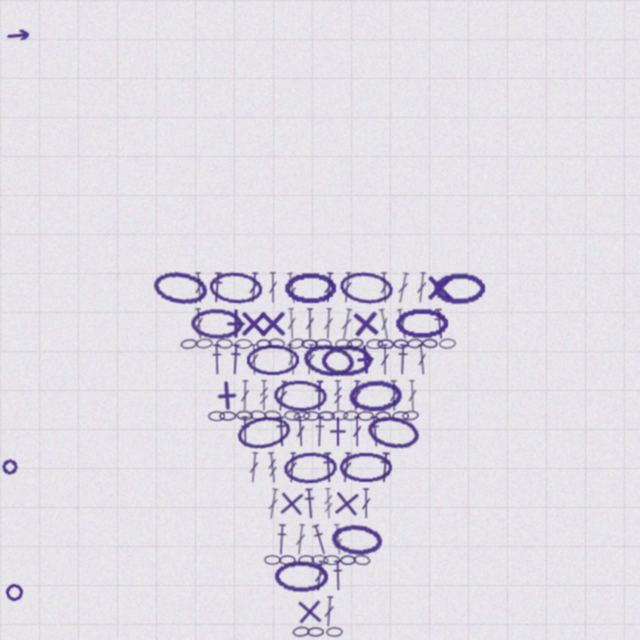chain: (235, 412, 293, 452), (365, 412, 422, 452), (151, 268, 209, 307), (301, 341, 357, 379), (338, 269, 394, 306), (208, 270, 264, 305), (330, 522, 384, 558), (273, 379, 328, 412), (283, 451, 337, 484), (348, 379, 402, 412), (274, 560, 328, 592), (190, 308, 244, 340), (339, 452, 393, 483), (246, 344, 300, 375), (321, 344, 373, 376), (433, 272, 485, 304), (395, 308, 448, 339), (284, 272, 336, 303), (346, 337, 364, 350), (288, 337, 305, 350), (311, 554, 329, 566), (353, 554, 371, 566), (293, 410, 311, 422), (180, 338, 198, 350), (292, 626, 310, 637), (249, 410, 267, 421), (236, 410, 253, 421), (264, 410, 281, 421), (331, 410, 348, 421), (402, 410, 419, 421), (196, 338, 213, 349), (216, 338, 233, 349), (268, 338, 285, 349), (439, 338, 456, 349), (284, 410, 300, 421), (343, 410, 359, 421), (407, 338, 423, 349), (422, 338, 438, 349), (307, 627, 324, 637), (326, 627, 343, 637), (264, 555, 281, 565), (279, 555, 296, 565), (323, 555, 340, 565), (208, 411, 225, 421), (219, 411, 236, 421), (303, 411, 320, 421), (318, 411, 335, 421), (357, 411, 374, 421), (392, 411, 409, 421), (235, 339, 252, 349), (301, 339, 318, 349), (315, 339, 332, 349), (335, 339, 352, 349), (366, 339, 383, 349), (377, 339, 394, 349), (298, 555, 314, 565), (340, 555, 356, 565), (375, 411, 391, 421), (256, 339, 272, 349), (393, 339, 409, 349)
double: (395, 272, 411, 304), (339, 308, 354, 340), (377, 308, 392, 340), (395, 308, 410, 340), (266, 488, 280, 520), (275, 380, 289, 412), (313, 560, 326, 592), (294, 524, 307, 555), (340, 452, 353, 483), (285, 344, 298, 375), (415, 272, 428, 303), (323, 596, 335, 627), (248, 452, 260, 483), (286, 452, 298, 483), (304, 344, 316, 375), (416, 344, 428, 375), (193, 308, 205, 339), (193, 272, 205, 303), (248, 272, 260, 303), (323, 272, 335, 303), (341, 272, 353, 303), (295, 416, 306, 447), (351, 380, 362, 411), (407, 380, 418, 411), (286, 308, 297, 339), (323, 308, 334, 339), (379, 272, 390, 303), (361, 488, 371, 519), (352, 416, 362, 447), (240, 380, 250, 411), (389, 380, 399, 411), (249, 344, 259, 375), (380, 344, 390, 375), (305, 308, 315, 339), (268, 272, 278, 303)
half_double: (310, 523, 330, 556), (432, 308, 447, 340), (303, 488, 317, 519), (378, 452, 392, 483), (368, 416, 382, 447), (210, 272, 224, 303), (275, 524, 288, 555), (322, 452, 335, 483), (275, 416, 288, 447), (313, 416, 326, 447), (313, 380, 326, 411), (229, 344, 242, 375), (396, 344, 409, 375), (332, 560, 344, 591), (239, 416, 251, 447), (211, 344, 223, 375)
noise: (3, 581, 25, 603), (0, 457, 19, 476), (6, 29, 31, 41)
single: (293, 595, 326, 628), (275, 487, 308, 520), (330, 487, 363, 520), (210, 379, 243, 412), (349, 343, 382, 376), (349, 307, 382, 340), (220, 308, 251, 339), (238, 308, 269, 339), (257, 308, 288, 339), (424, 272, 455, 303), (323, 416, 353, 447)
treble: (285, 272, 299, 304), (266, 452, 279, 483), (332, 524, 344, 555), (323, 488, 334, 519), (259, 380, 269, 411), (333, 380, 343, 411)
